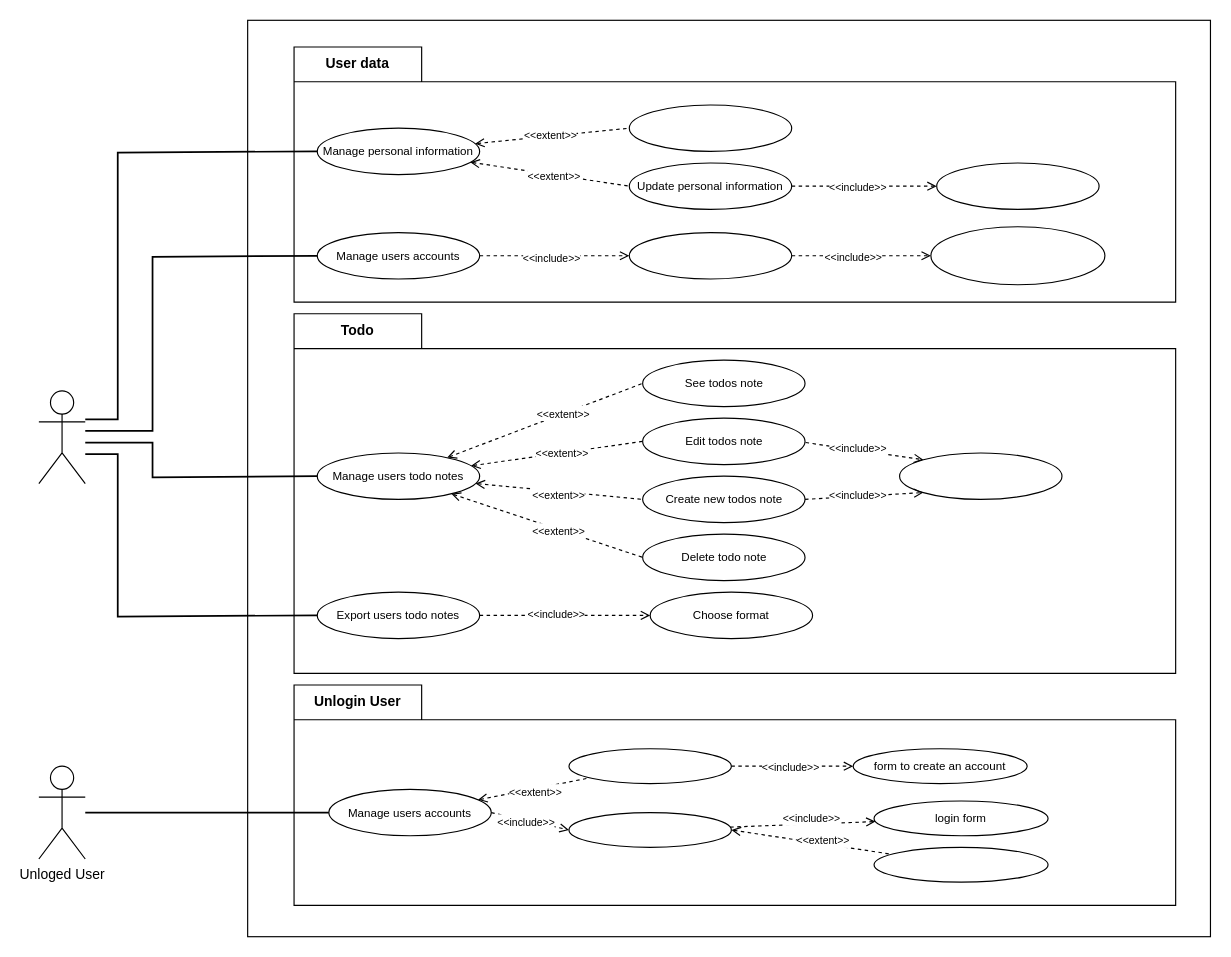
Image size: 1231x957. Some labels were removed from this diagram. The shapes that lost their labels are listed below. From the top down, each one's centre as x and y in pixels, then its label:
pixel 710 127: See personal information
pixel 1017 185: Form personal information
pixel 710 255: Delete personal information
pixel 1017 255: Ask user confirmation and password
pixel 61 437: Loged User
pixel 980 475: Form todo note imformation
pixel 649 766: Create account
pixel 649 829: Login
pixel 960 864: Recover account form
